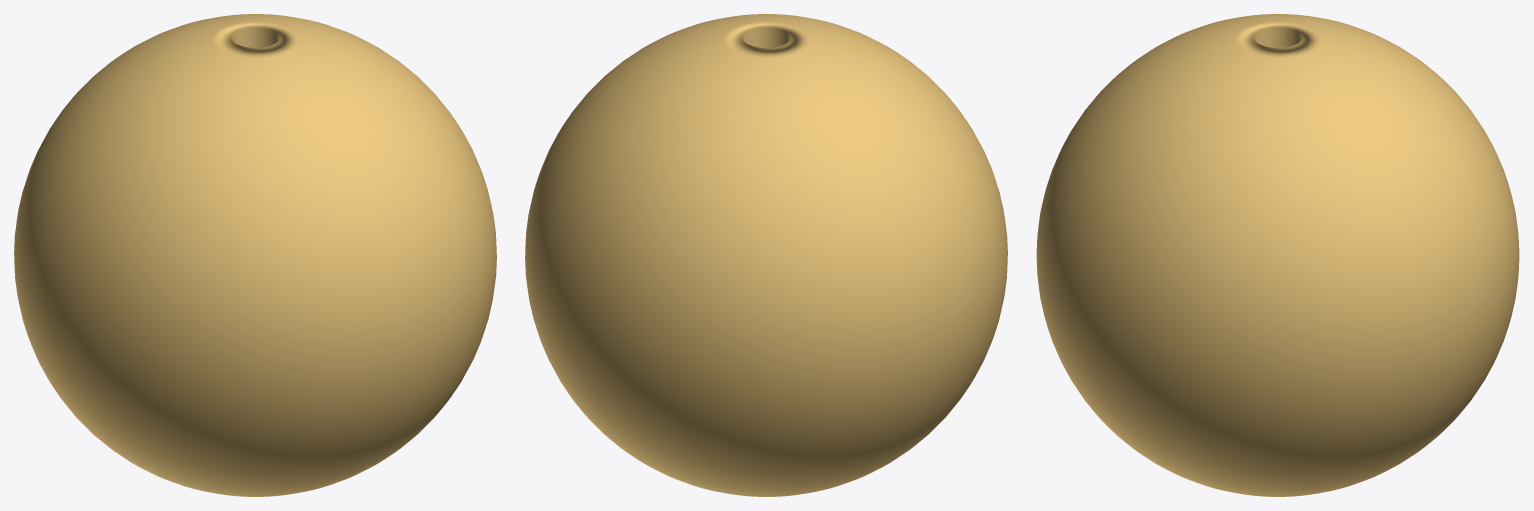
The model's file is spacer-01-gold-10mm.glb.
The picture shows the model from 3 angles, left to right: view 1: azimuth 30°, elevation 25°; view 2: azimuth 150°, elevation 25°; view 3: azimuth 270°, elevation 25°; orthographic projection.
Visible parts, largest first — view 1: Spacer with through bore; view 2: Spacer with through bore; view 3: Spacer with through bore.
Boxes of the visible parts, <box> form: Spacer with through bore: <box>14,14,496,496</box>; Spacer with through bore: <box>525,14,1007,496</box>; Spacer with through bore: <box>1036,14,1519,496</box>.
Size of the model in its own units: 0.01 by 0.00995 by 0.01.
